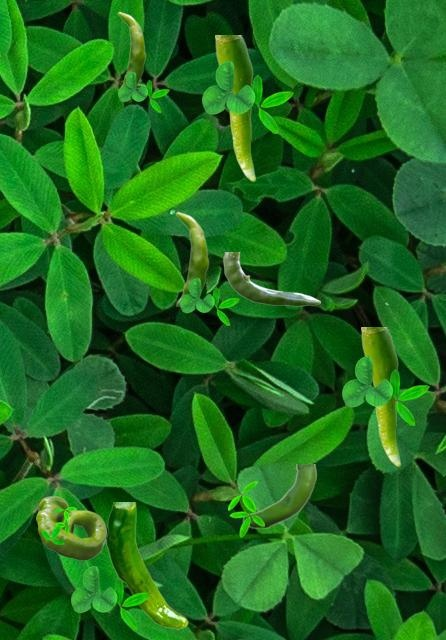green_chili: (106, 502, 187, 628), (215, 35, 254, 180), (361, 327, 399, 465), (223, 252, 319, 305), (242, 464, 315, 528), (36, 496, 105, 559), (175, 211, 208, 305), (117, 11, 145, 92)
